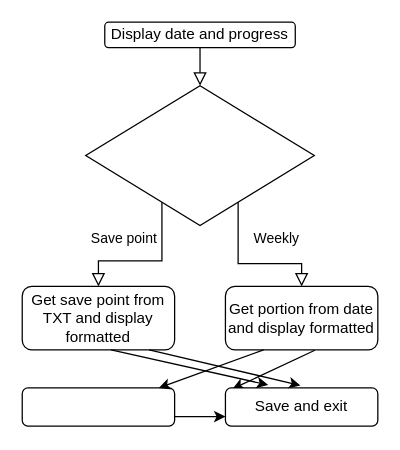
This 400x450 diagram has some shape labels left out. Here are the shapes that lost their labels. From the top down, the centre of each, then its label:
At (x=199, y=154): "Continue from save point or start weekly portion?".
At (x=98, y=406): "Save and turn page".
